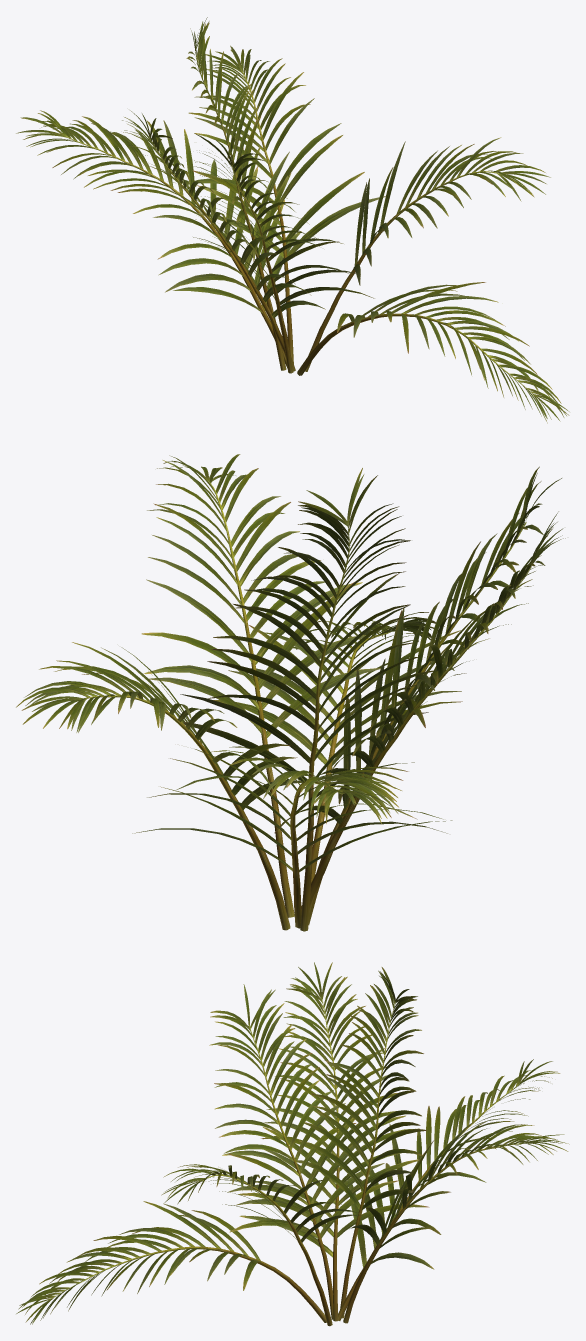
File: Palm_01.fbx
The picture shows the model from 3 angles, top to bottom: view 1: azimuth 30°, elevation 25°; view 2: azimuth 150°, elevation 25°; view 3: azimuth 270°, elevation 25°; orthographic projection. The views are drawn at different scales.
Parts seen in each view (by area): view 1: Palm_01; view 2: Palm_01; view 3: Palm_01.
Boxes of the visible parts, box(x1,y1,x2,y2) form: Palm_01: box(16, 17, 569, 423); Palm_01: box(16, 454, 565, 931); Palm_01: box(16, 962, 569, 1326).
Size of the model in its own units: 16.34 by 15.62 by 24.58.
2 materials, 2 textured.
